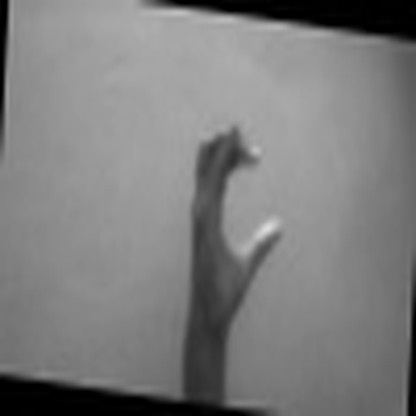c: (182, 108, 289, 311)
